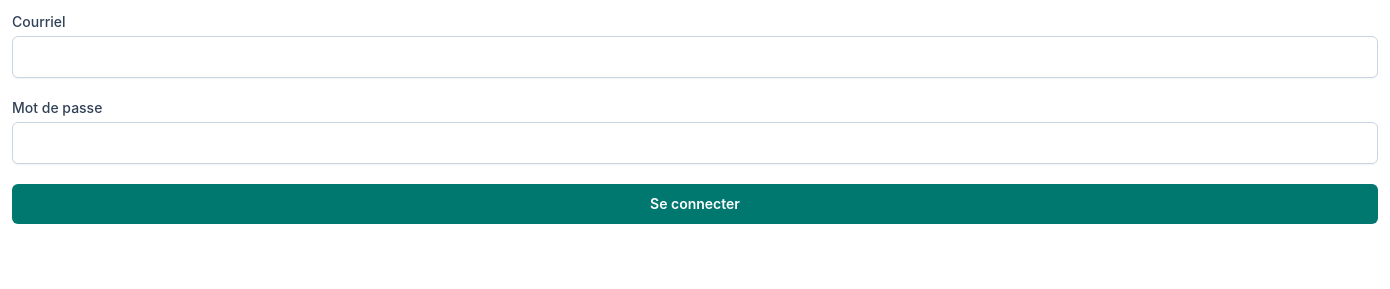
Scenario: LoginForm › shows validation errors without calling the API
This screenshot has width=1390, height=289.
Click the button "Se connecter" at [695, 204], box [12,184,1378,224]
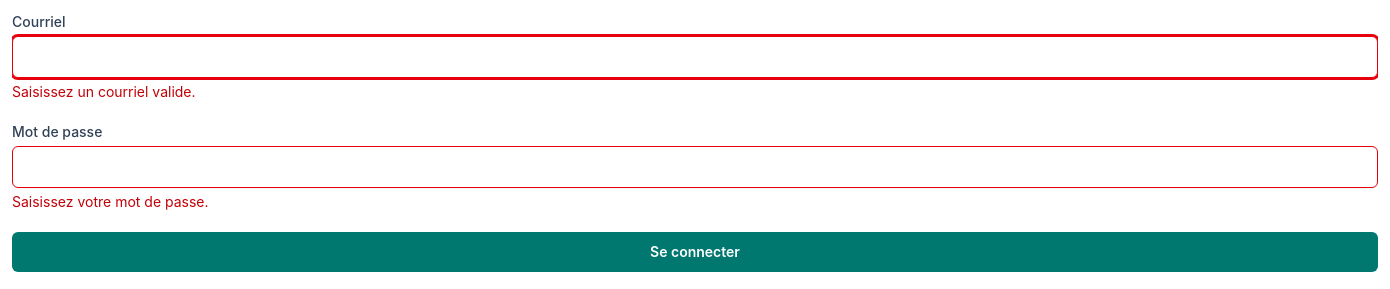
Expected: the text "Saisissez un courriel valide." is shown, [12,83,196,100]
Expected: the text "Saisissez votre mot de passe." is shown, [12,193,208,210]
